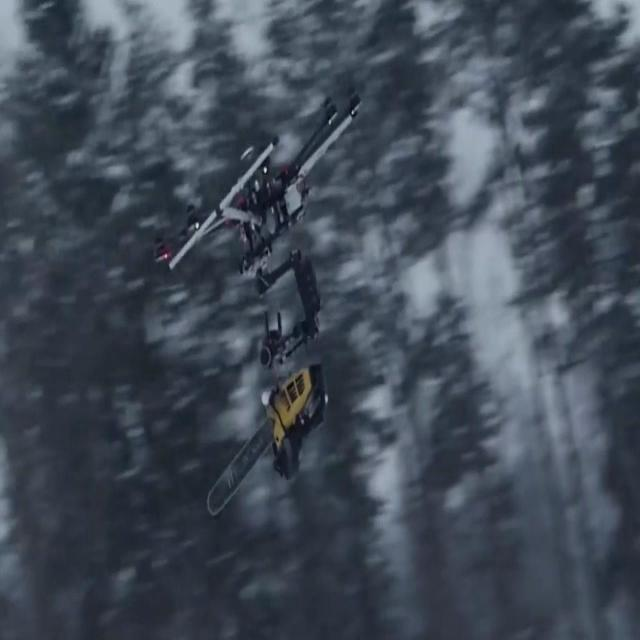UAV: (154, 89, 362, 271)
